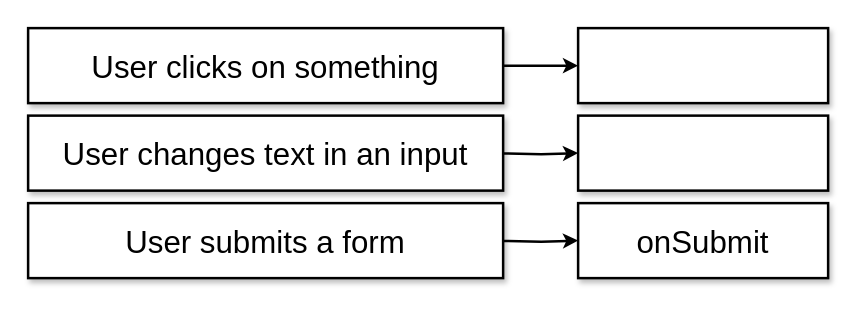
Image size: 858x309. Some labels were removed from this diagram. Each missing label, with the centre of its shape:
"onChange" goes at (x=703, y=154).
"onClick" goes at (x=703, y=66).
